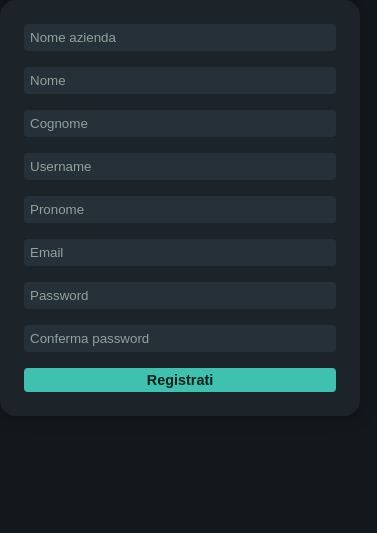
Test: RegisterFormComponent › shows inline validation errors when submitting an empty form
Step 1. Click the button "Registrati" → click(180, 380), box [24, 368, 336, 392]
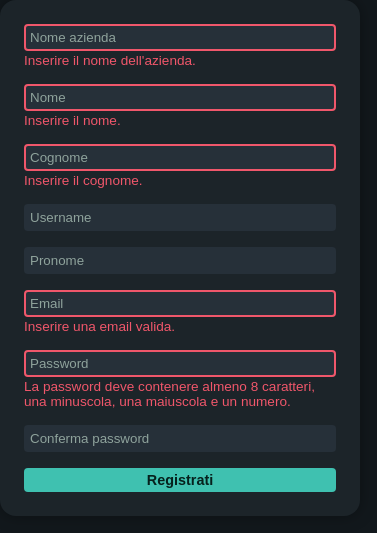
Expected: the text "Inserire il nome dell'azienda." is shown, [24, 53, 196, 68]
Expected: the text "Inserire il nome." is shown, [24, 113, 121, 128]
Expected: the text "Inserire il cognome." is shown, [24, 173, 143, 188]
